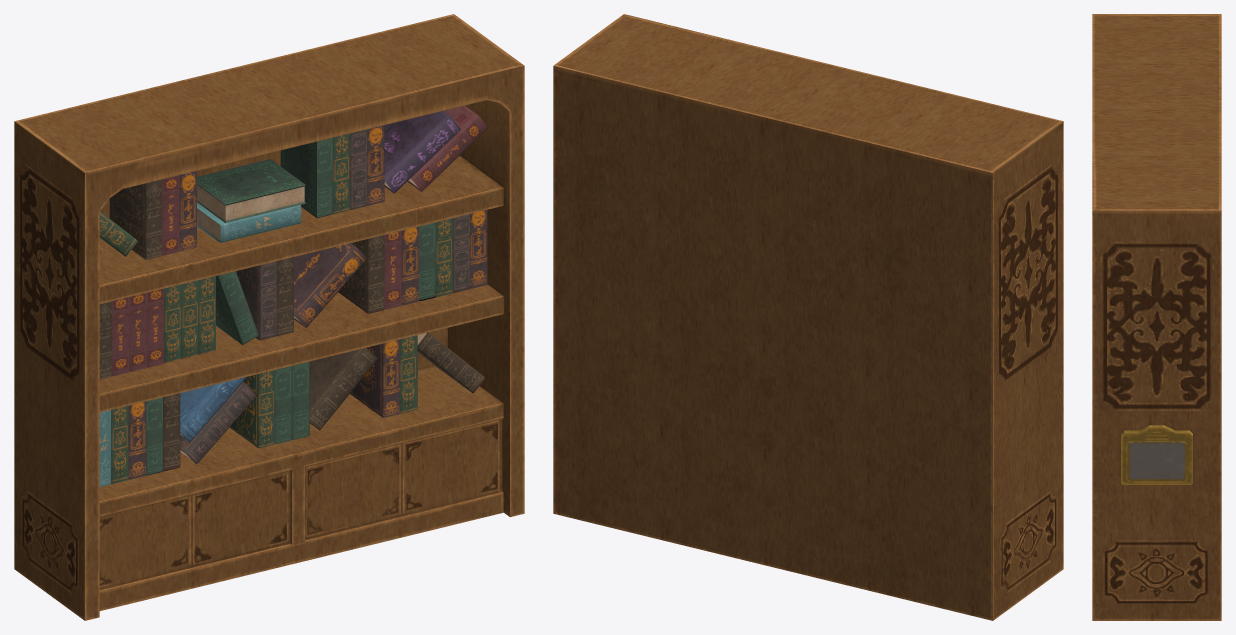
The model's file is sb_obj_indoor048_BookShelf_01.fbx.
3 renders of one model, left to right at view 1: azimuth 30°, elevation 25°; view 2: azimuth 150°, elevation 25°; view 3: azimuth 270°, elevation 25°, orthographic. The views are drawn at different scales.
Visible parts, largest first — view 1: sb_obj_indoor048_BookShelf; view 2: sb_obj_indoor048_BookShelf; view 3: sb_obj_indoor048_BookShelf.
Part boxes in pixels (left/top/right/bottom): sb_obj_indoor048_BookShelf: left=14, top=14, right=524, bottom=620; sb_obj_indoor048_BookShelf: left=553, top=14, right=1063, bottom=620; sb_obj_indoor048_BookShelf: left=1092, top=14, right=1221, bottom=620.
Bounding box in the file's own units: 2.35 × 2.27 × 0.6488.
